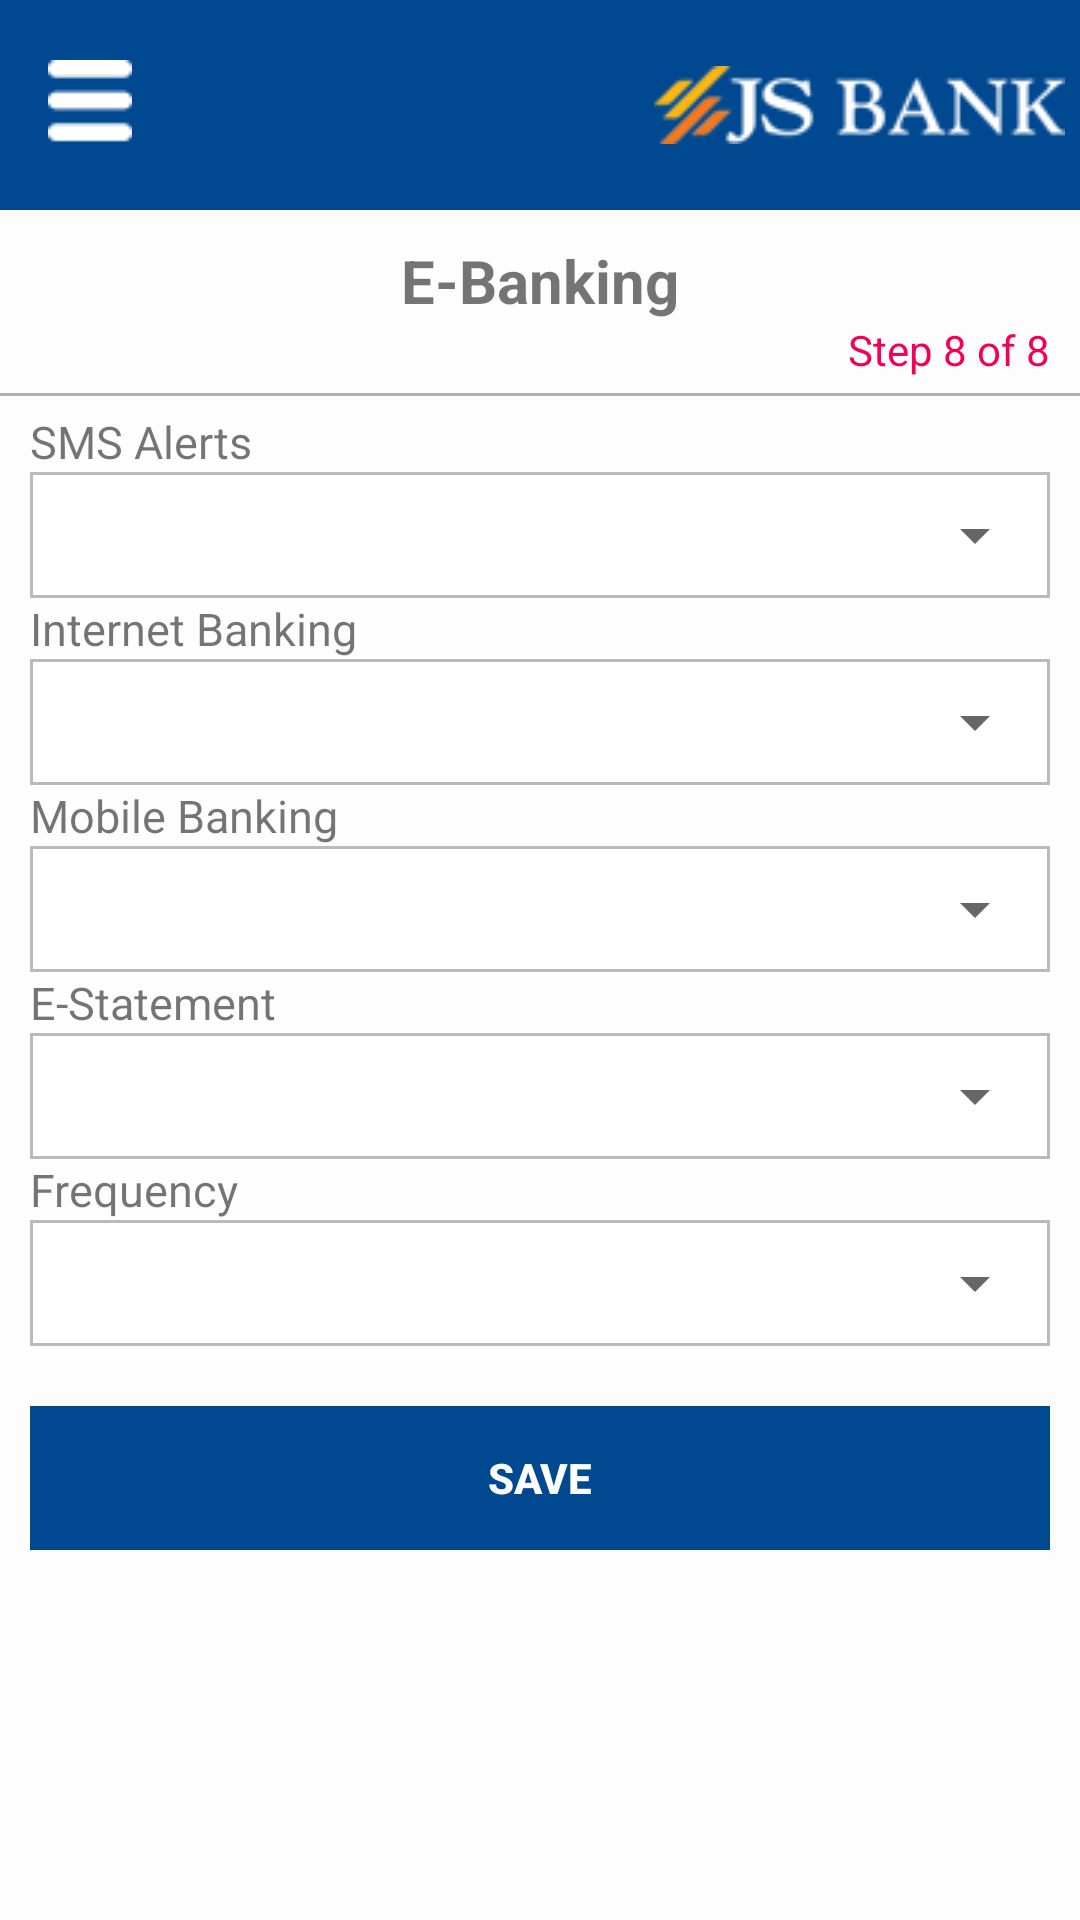

Point at icon controls on the screen. Image size 1080*1920, points as [x,y].
menu: [90,101]
